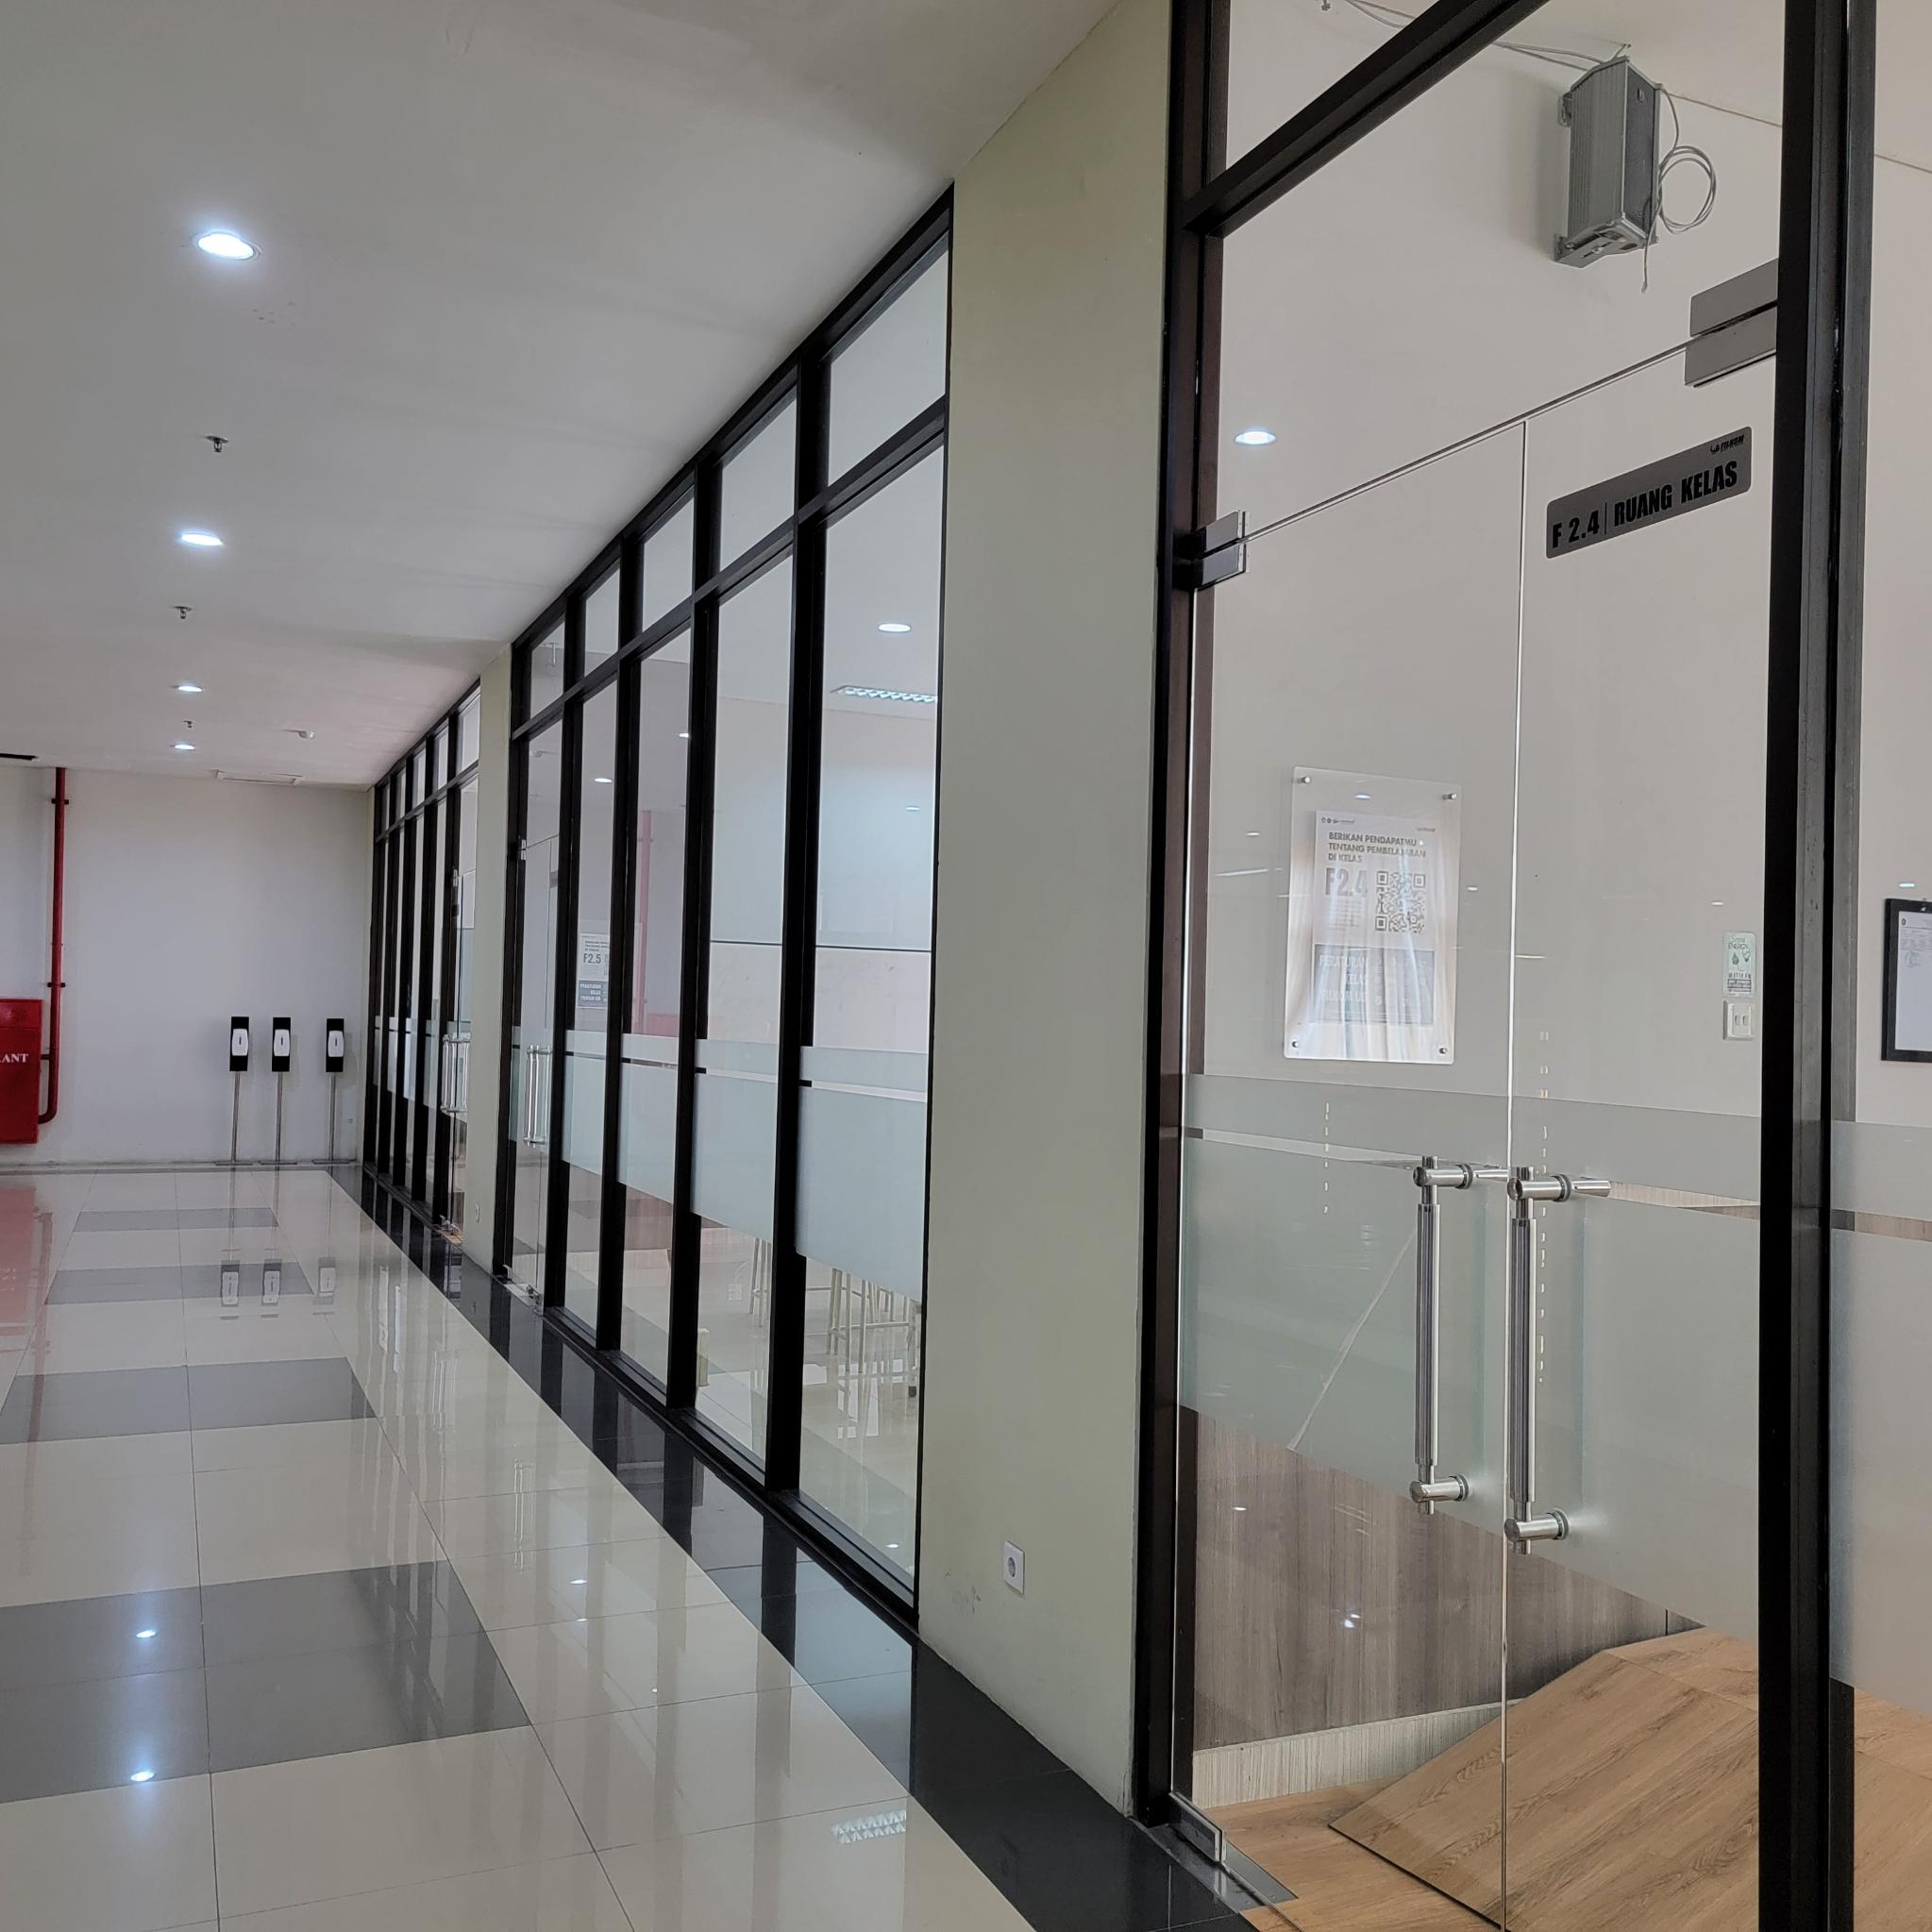plate: (1546, 425, 1757, 561)
